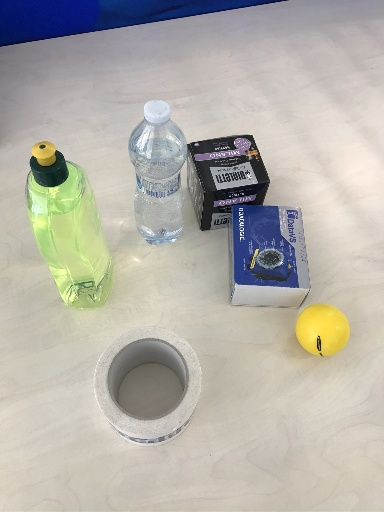Acqua: (126, 103, 190, 242)
Box: (227, 202, 313, 308)
Caffe: (186, 133, 273, 233)
Nastro: (94, 326, 203, 444)
Palla: (295, 303, 352, 360)
Sapone: (20, 140, 117, 314)
